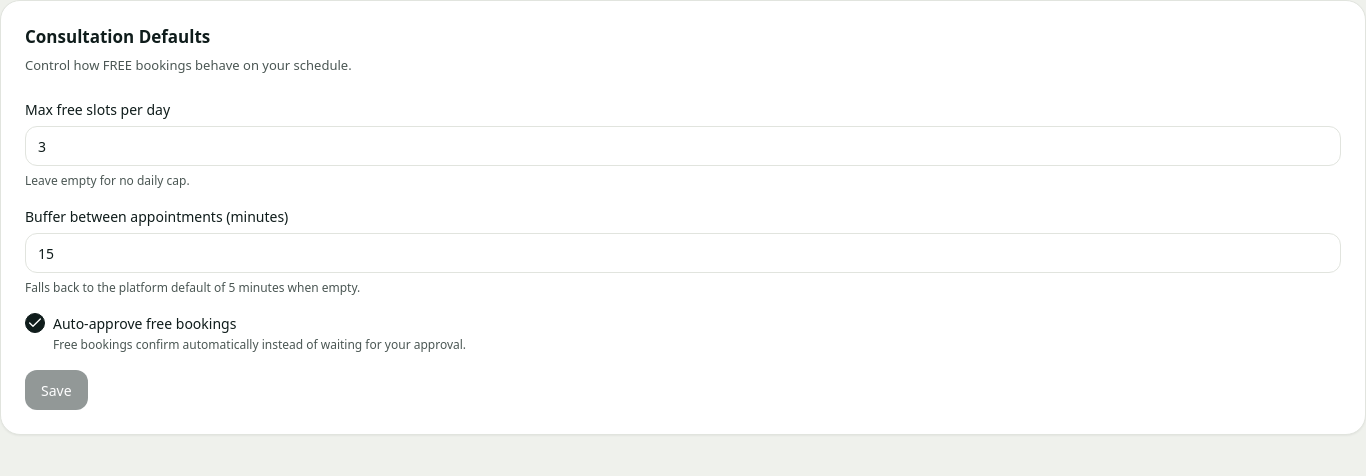
Scenario: ConsultationDefaultsForm › rejects a negative buffer override with a validation error, without submitting
This screenshot has width=1366, height=476.
Replace the text in the number field labelled "Buffer between appointments (minutes)" with "-5" at coordinates (683, 253), box [25,233,1341,273]
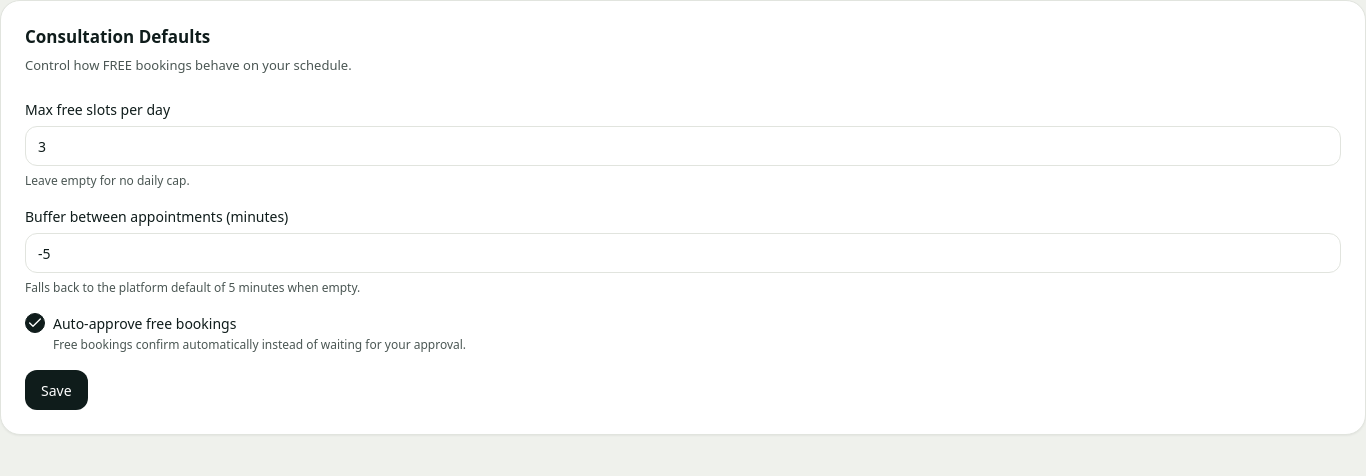
Click the button "Save" at coordinates (56, 390), box [25,370,88,410]
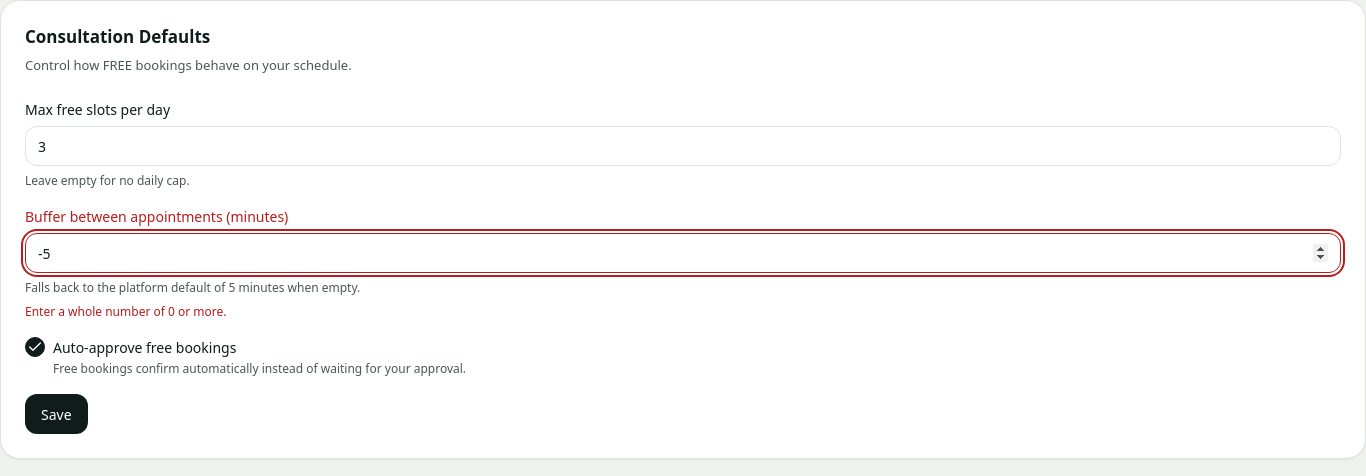
Result: the text "Enter a whole number of 0 or more." is shown at [25,303,226,320]
